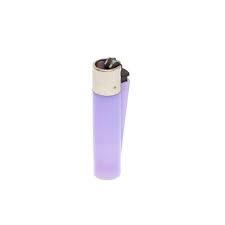lighter: (93, 55, 130, 181)
